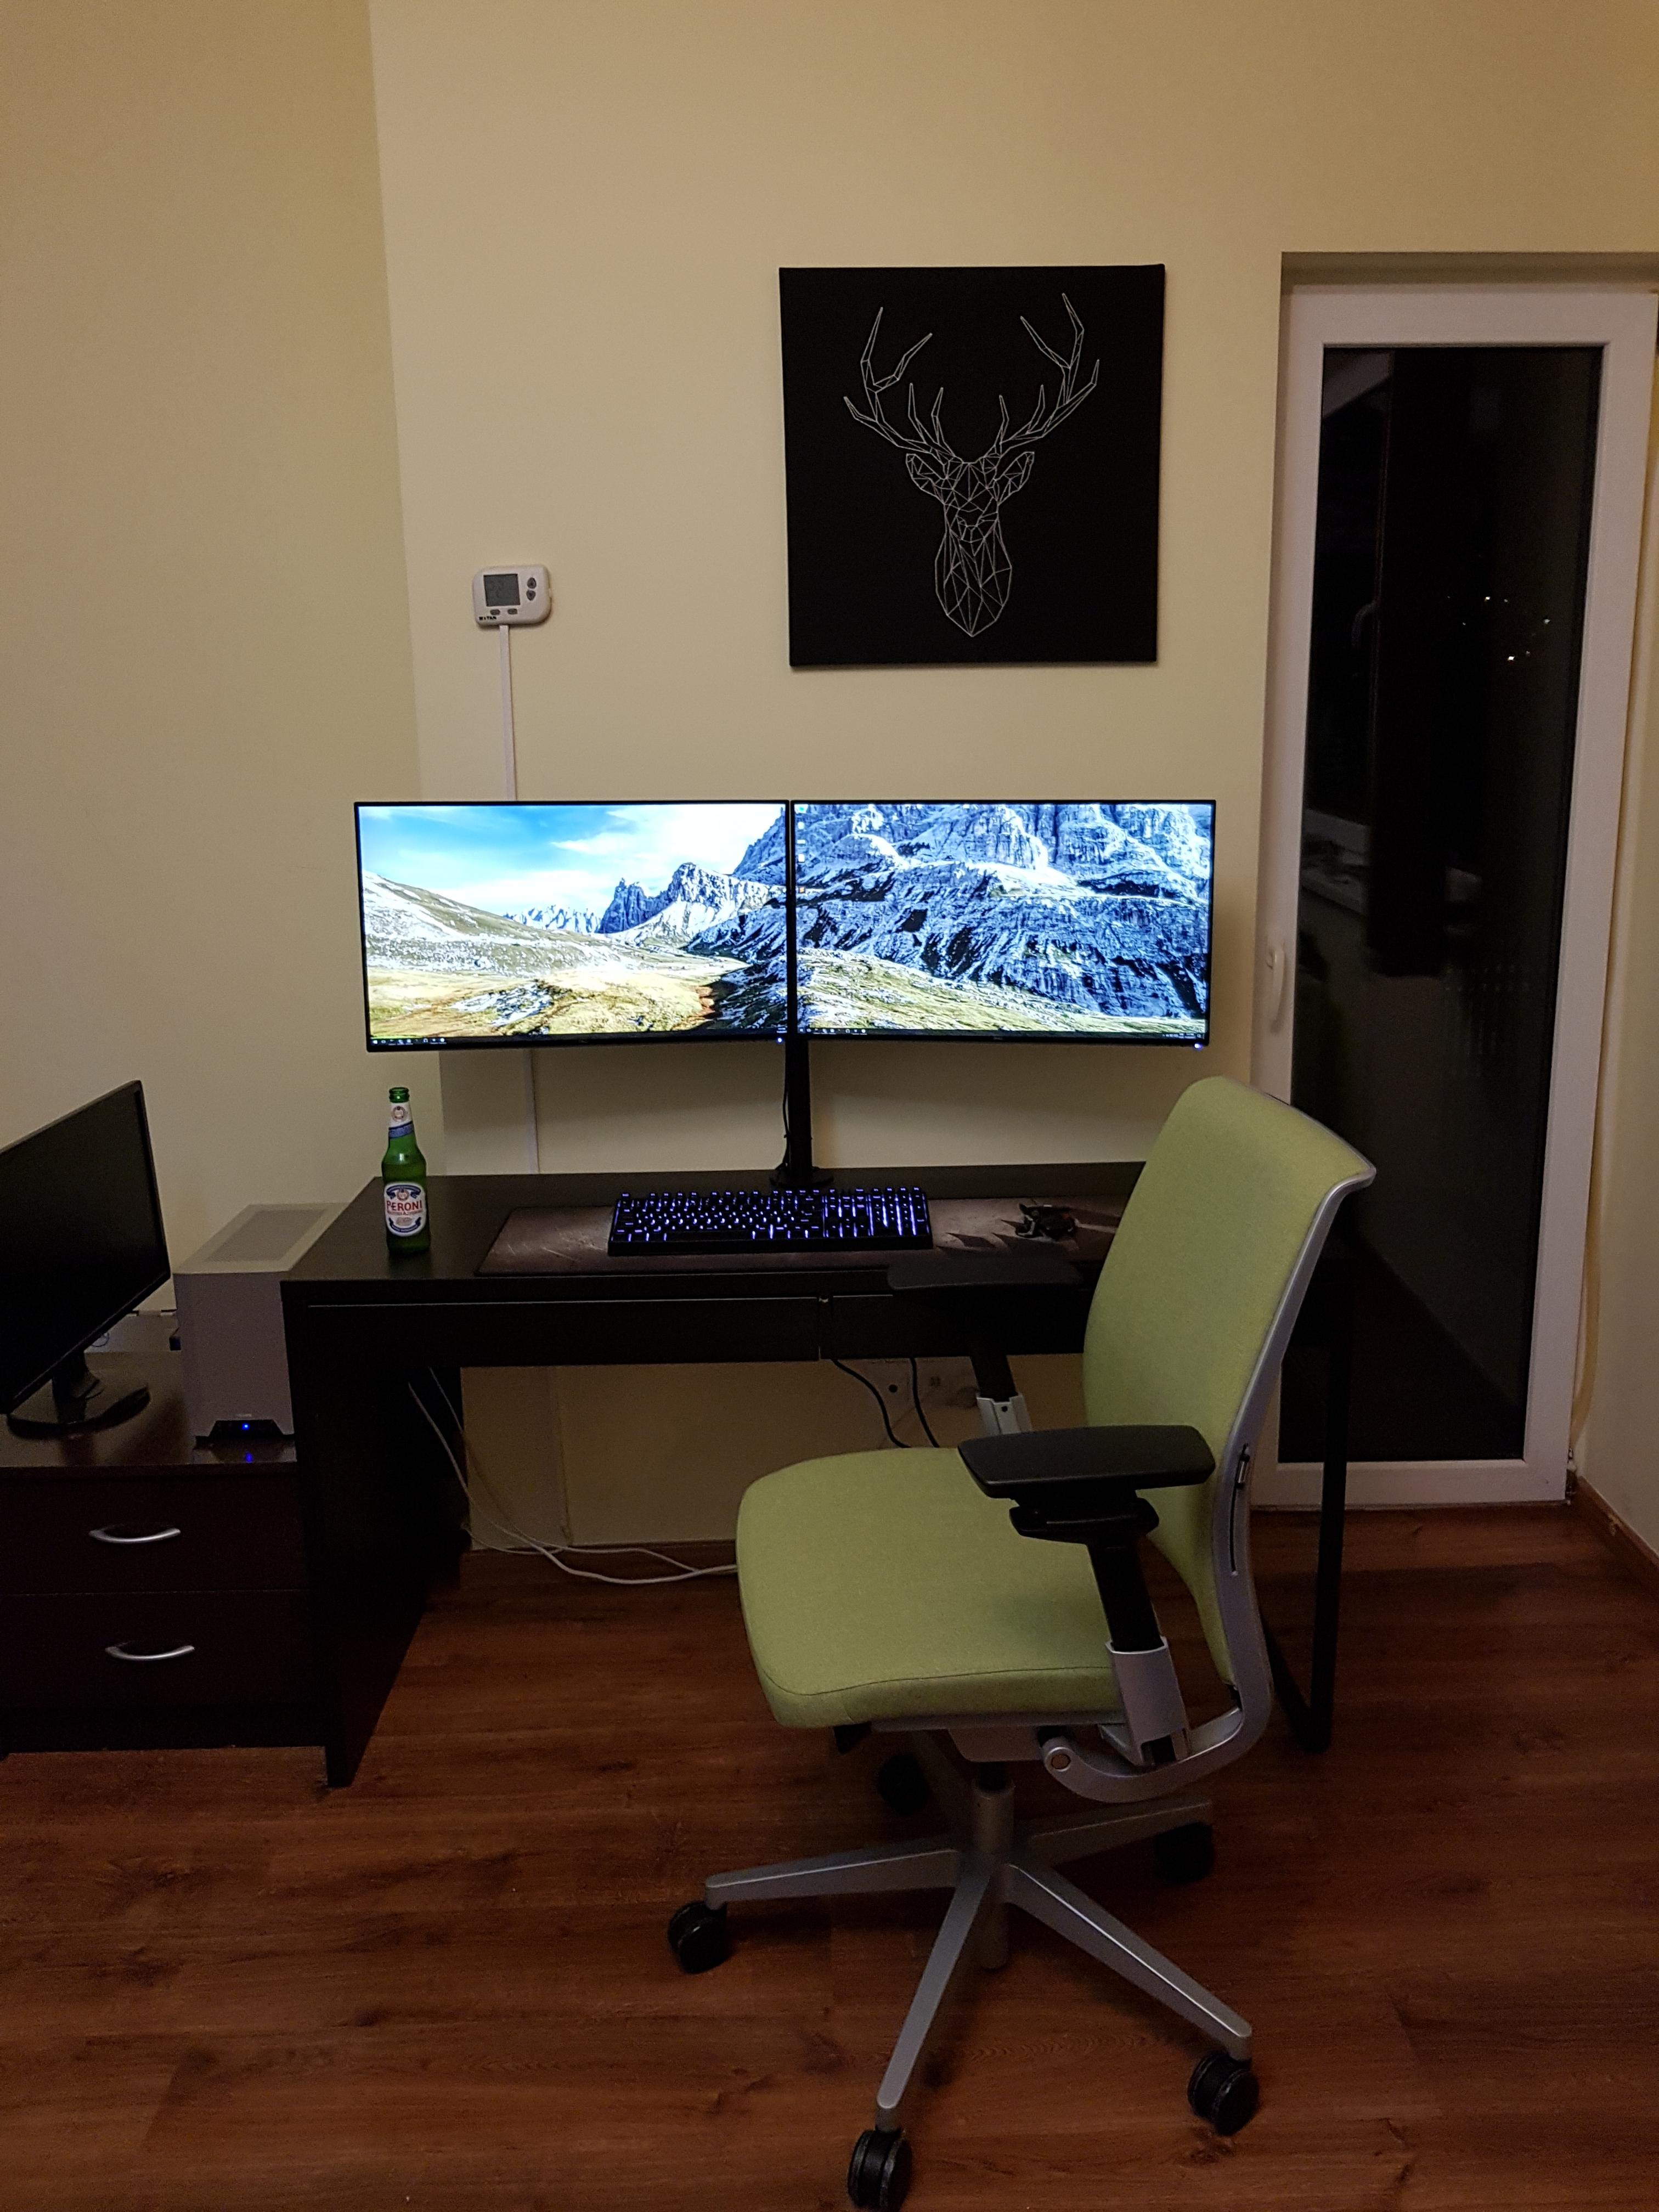Chair (Generic): (629, 1096, 1391, 2125)
Decoration (Picture): (775, 263, 1164, 671)
Desk (Generic): (298, 1120, 1277, 1698)
Desktop (Windows): (181, 1190, 333, 1451)
Keyboard (Gaming): (599, 1184, 941, 1270)
Monitor (Landscape): (362, 796, 791, 1050), (798, 798, 1227, 1042)
Monitor Arm: (742, 1022, 835, 1179)
Mouse (Gaming): (1011, 1197, 1094, 1258)
Mousepad (Gaming): (451, 1191, 1171, 1282)
